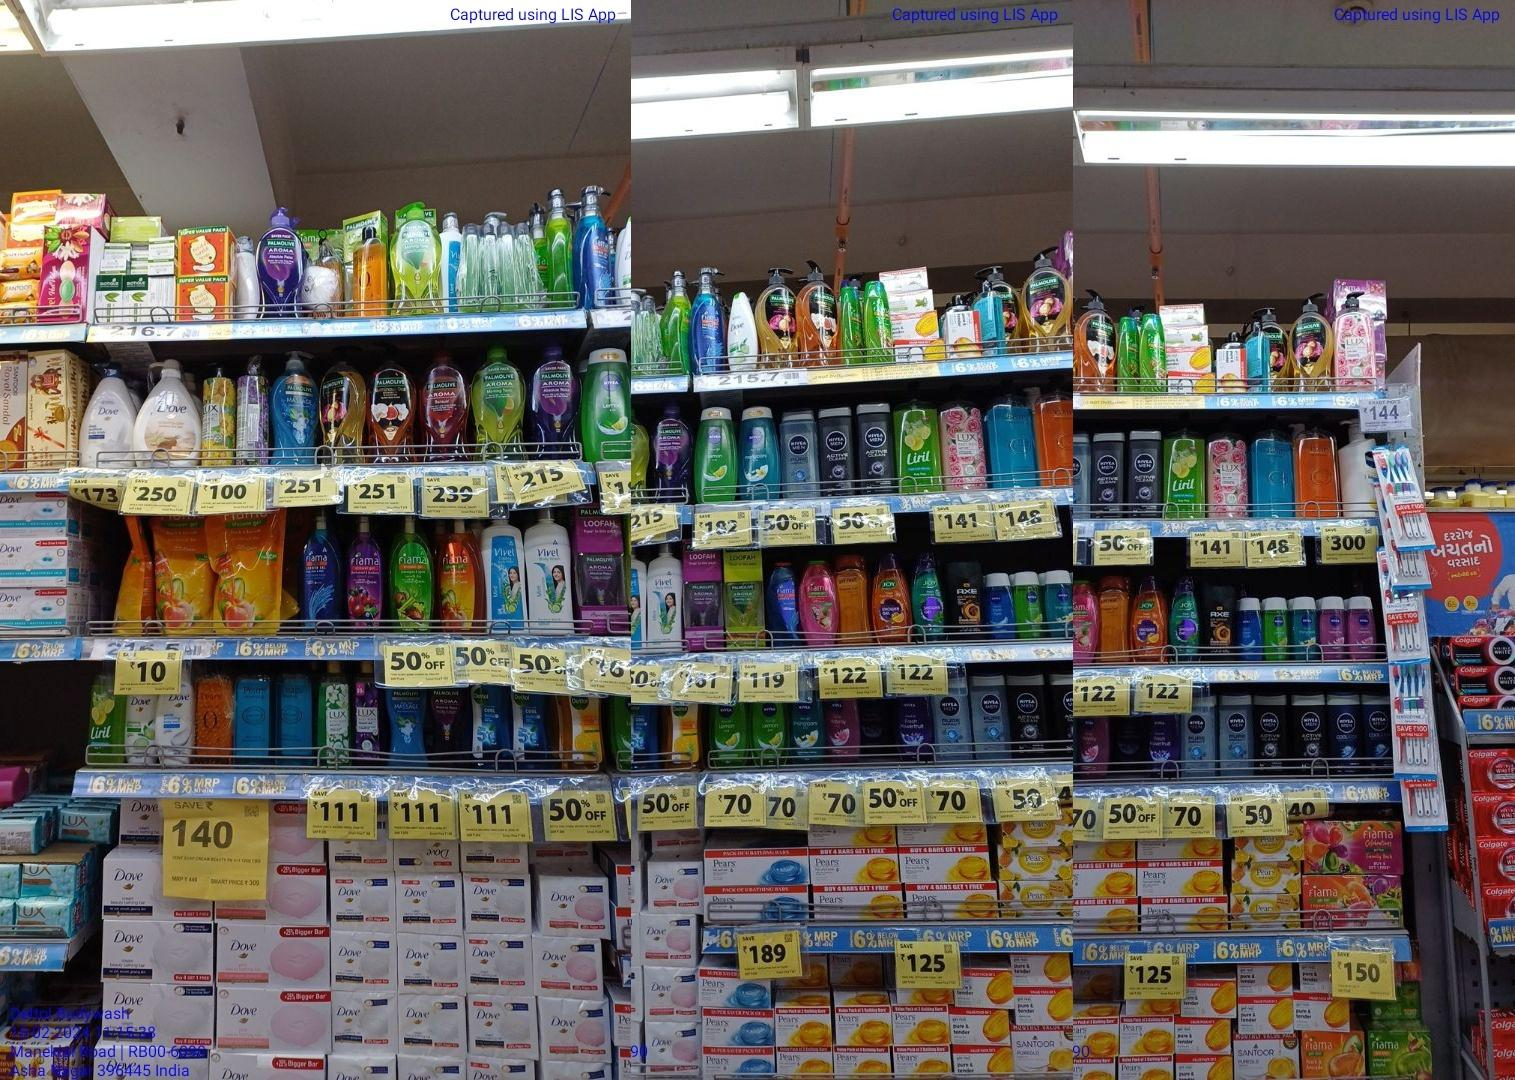Dettol_Bodywash_Cool: (469, 683, 512, 770), (517, 694, 549, 768)
Dettol_Bodywash_Refresh: (664, 700, 706, 771), (560, 695, 599, 768)
Dove_Gentle_Exfoliating_Body_Wash_250ML: (157, 687, 195, 766)
Dove_Refreshing_Body_Wash_250ML: (126, 692, 155, 763)
Fiama_Shower_Gel_Patchouli_and_Macadamia_250ML: (798, 558, 839, 646), (1071, 576, 1094, 664)
Get_Real_Shower_Gel_Moisturising_Glycerin_300ML: (1098, 575, 1133, 663), (842, 554, 872, 645)
Joy_Shower_Gel_Mandarin_and_Lemongrass_250ML: (874, 554, 914, 643), (1134, 577, 1167, 663)
Joy_Shower_Gel_Mint_and_Eucalyptus_250ML: (1167, 579, 1202, 663), (914, 554, 946, 639)
Lux_Black_Orchid_Scent_and_Juniper_Oil_Body_Wash_245ML: (354, 659, 381, 767)
Lux_Body_Wash_Skin_Detox_Freesia_Scent_and_Alove_Vera_245ML: (317, 662, 351, 767)
Nivea_Shower_Gel_Frangipani_and_Oil_250ML: (740, 399, 782, 501), (790, 702, 823, 760)
Nivea_Shower_Gel_Lemon_and_Oil_250ML: (693, 404, 738, 501), (710, 701, 749, 766), (753, 705, 787, 763)
Nivea_Shower_Gel_Waterlily_and_Oil_250ML: (823, 695, 860, 759)
Palmolive_Aroma_Moments_Feel_The_Massage_Shower_Gel_250ML: (385, 687, 424, 768)
Palmolive_Aroma_Relax_250ML: (649, 406, 690, 503), (428, 687, 466, 768)
Pears_Pure_Glycerin_and_Mint_Extracts_Body_Wash_250ML: (276, 663, 312, 763), (234, 664, 270, 761)
